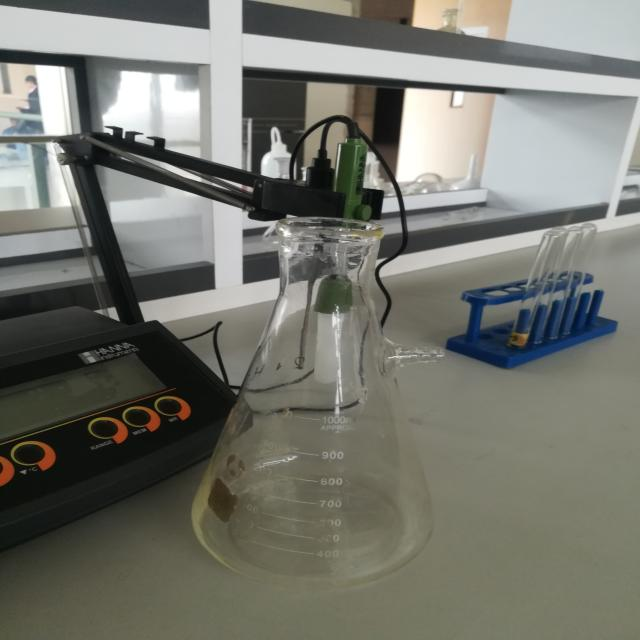Conical_Flask: (166, 155, 475, 609)
Test_Tube: (497, 157, 616, 391)
